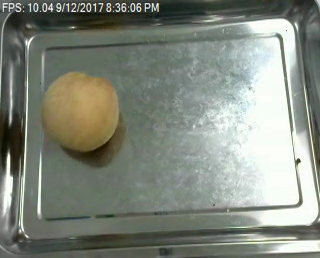Peach: (41, 71, 120, 153)
